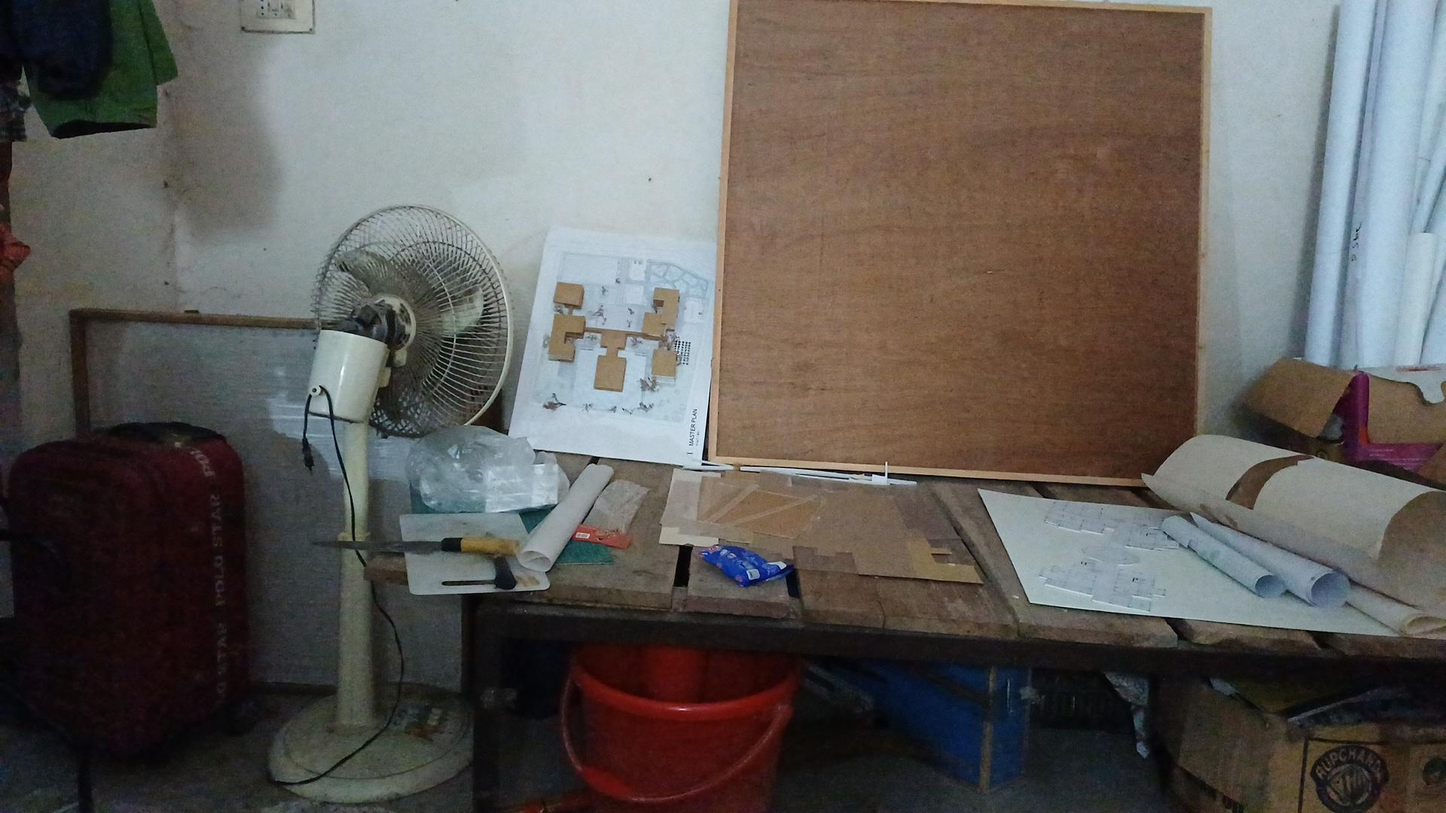Box: (1156, 659, 1446, 813)
Bucket: (556, 638, 796, 811)
Fan: (196, 181, 524, 721)
Knife: (306, 514, 543, 609)
Photo: (545, 225, 721, 456)
